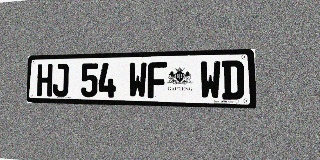4: (98, 63, 116, 98)
5: (81, 63, 98, 97)
D: (222, 60, 244, 100)
F: (147, 62, 167, 98)
H: (37, 64, 53, 96)
J: (52, 64, 69, 97)
W: (200, 61, 221, 99), (128, 62, 147, 98)
